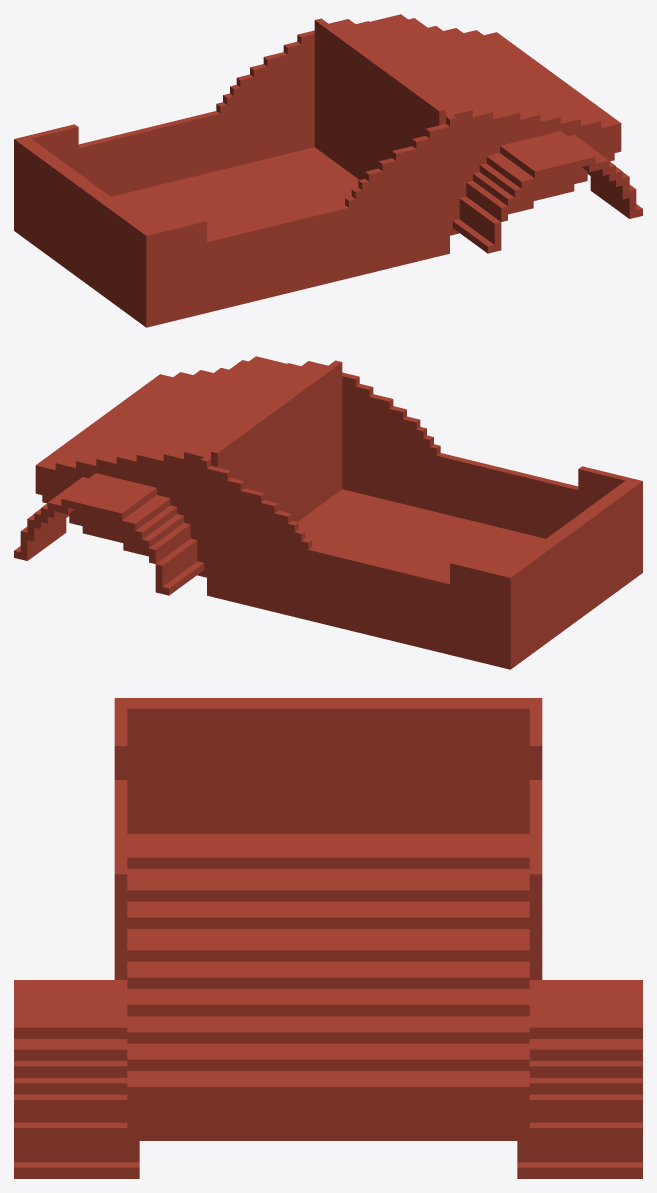
Rendered from beach_buggy_tub.glb.
3 views of the same model, one above another, from view 1: azimuth 30°, elevation 25°; view 2: azimuth 150°, elevation 25°; view 3: azimuth 270°, elevation 25° (orthographic). The views are drawn at different scales.
Visible parts, largest first — view 1: body:compound; view 2: body:compound; view 3: body:compound.
Part boxes in pixels (x1=…): body:compound: x1=14, y1=14, x2=642, y2=327; body:compound: x1=14, y1=356, x2=642, y2=669; body:compound: x1=14, y1=698, x2=642, y2=1178.
Bounding box in the file's own units: 2.22 × 0.625 × 1.56.
